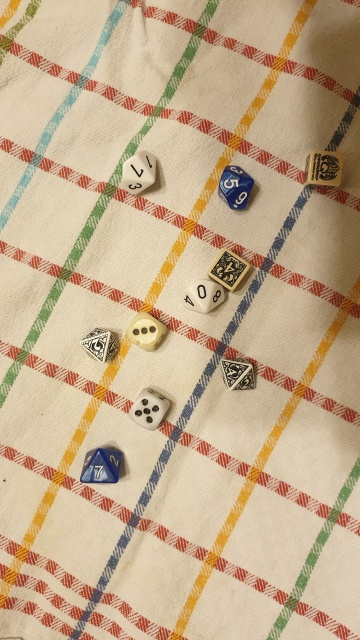d10-10: (174, 275, 229, 318)
d10-5: (212, 159, 257, 217)
d10-7: (113, 148, 165, 199), (74, 444, 128, 490)
d6-3: (125, 310, 169, 355)
d6-5: (124, 384, 175, 437)
d6p-4: (206, 246, 251, 296)
d6p-6: (301, 148, 345, 192)
d8p-2: (74, 323, 121, 366)
d8p-4: (215, 352, 260, 396)
